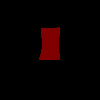gilet: (38, 26, 60, 60)
